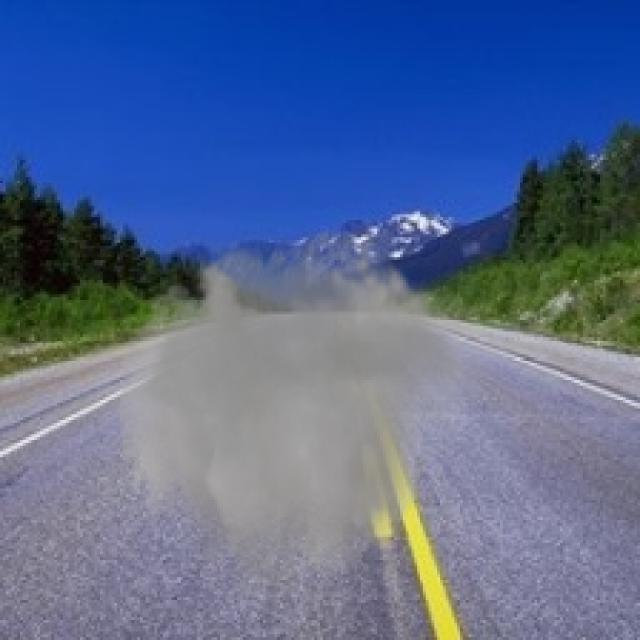Smoke: (108, 211, 494, 623)
